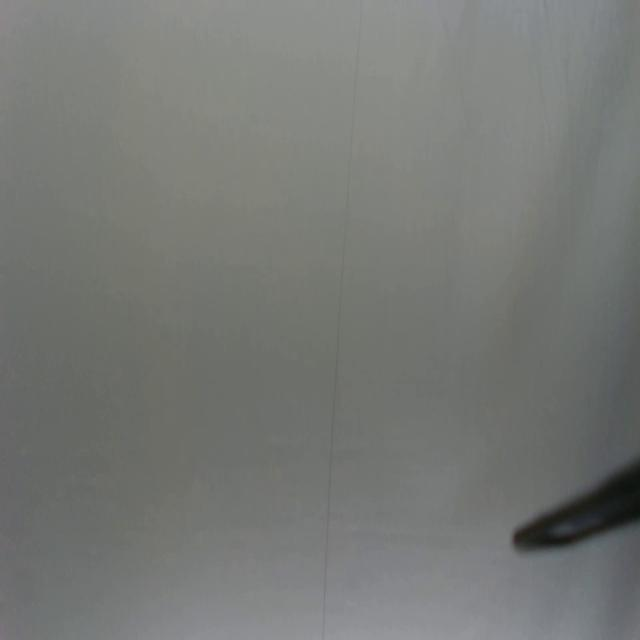crease: (320, 0, 365, 634)
